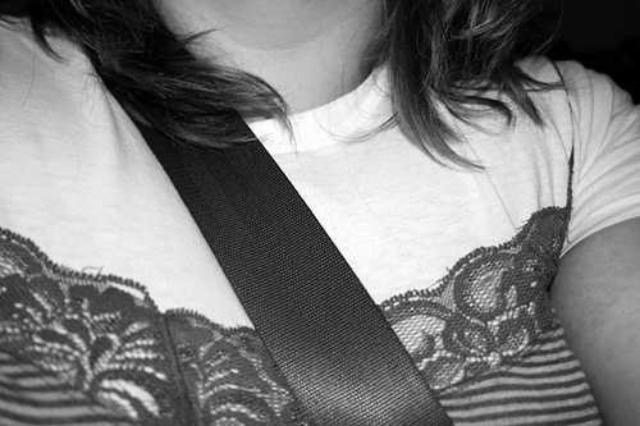Seatbelt: (81, 0, 456, 426)
